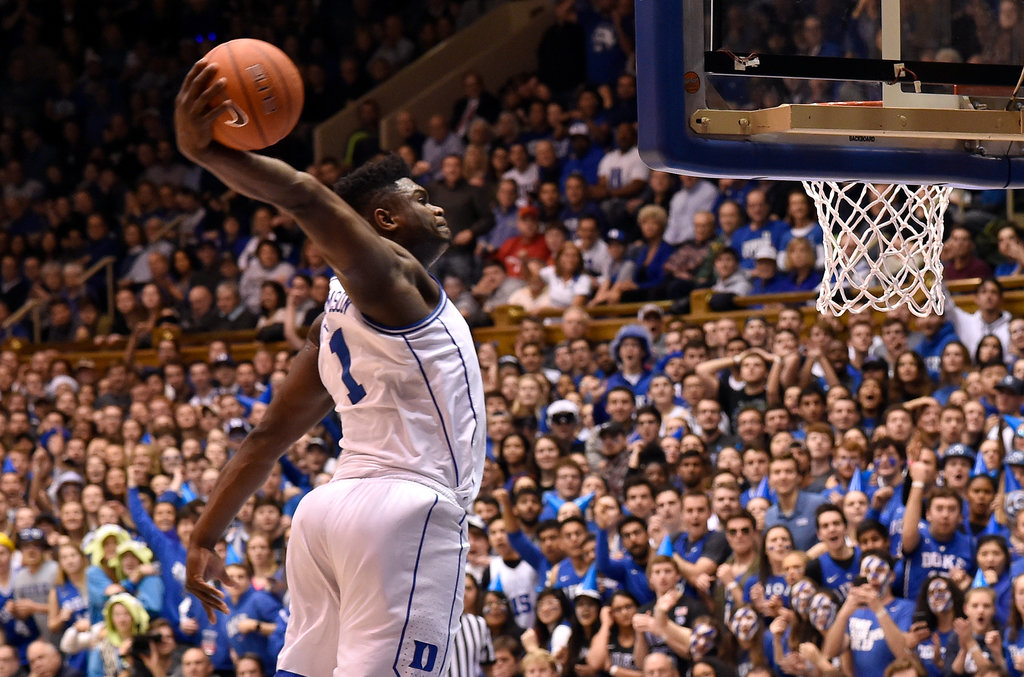ball: (159, 14, 308, 163)
basket: (773, 92, 979, 343)
shoot: (132, 105, 528, 677)
